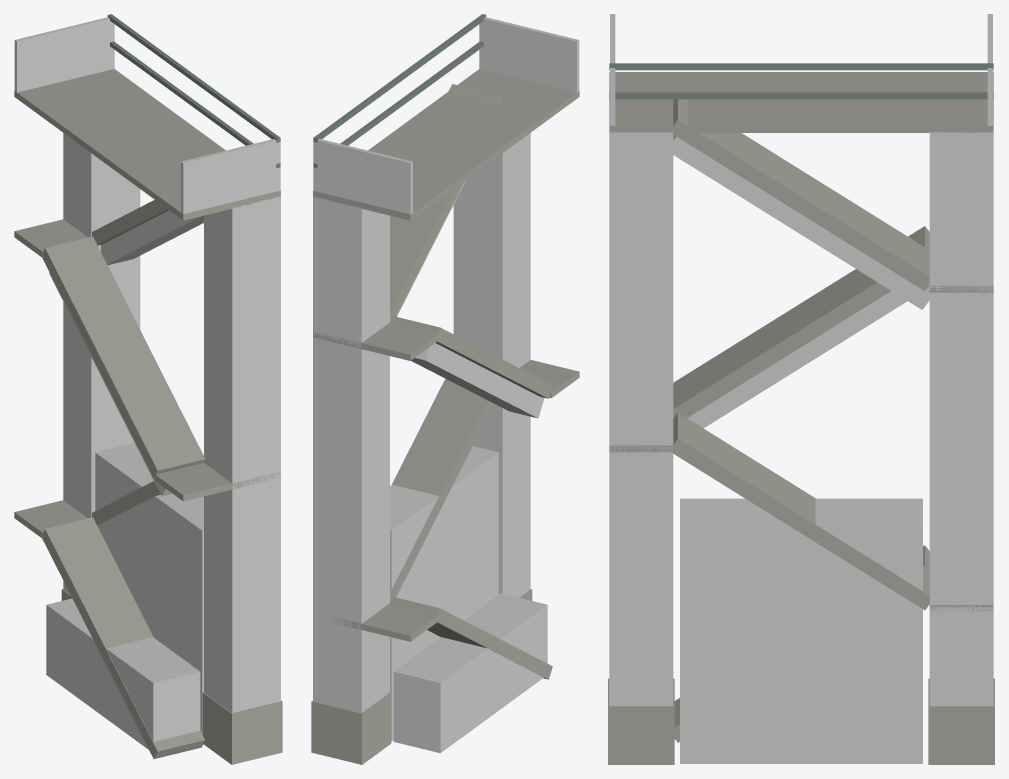
Rendered from SM_EscaleraAzotea_v2_Obra_LOD0.fbx.
3 renders of one model, left to right at view 1: azimuth 30°, elevation 25°; view 2: azimuth 150°, elevation 25°; view 3: azimuth 270°, elevation 25°, orthographic. The views are drawn at different scales.
Parts seen in each view (by area): view 1: SM_escalera_azotea_v2_LOD0; view 2: SM_escalera_azotea_v2_LOD0; view 3: SM_escalera_azotea_v2_LOD0.
Boxes of the visible parts, x1,y1,x2,y2 form: SM_escalera_azotea_v2_LOD0: (14,14,282,764); SM_escalera_azotea_v2_LOD0: (311,14,579,764); SM_escalera_azotea_v2_LOD0: (608,14,994,764).
Bounding box in the file's own units: 2.02 × 12.14 × 6.04.
